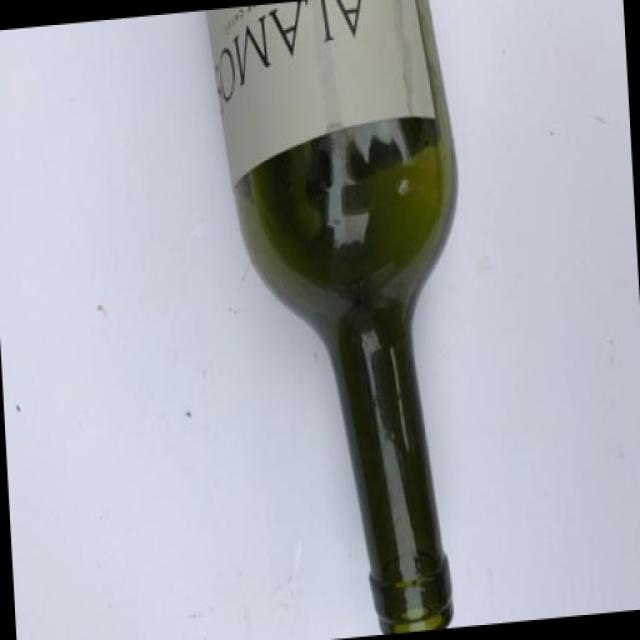vidrio: (187, 8, 568, 640)
